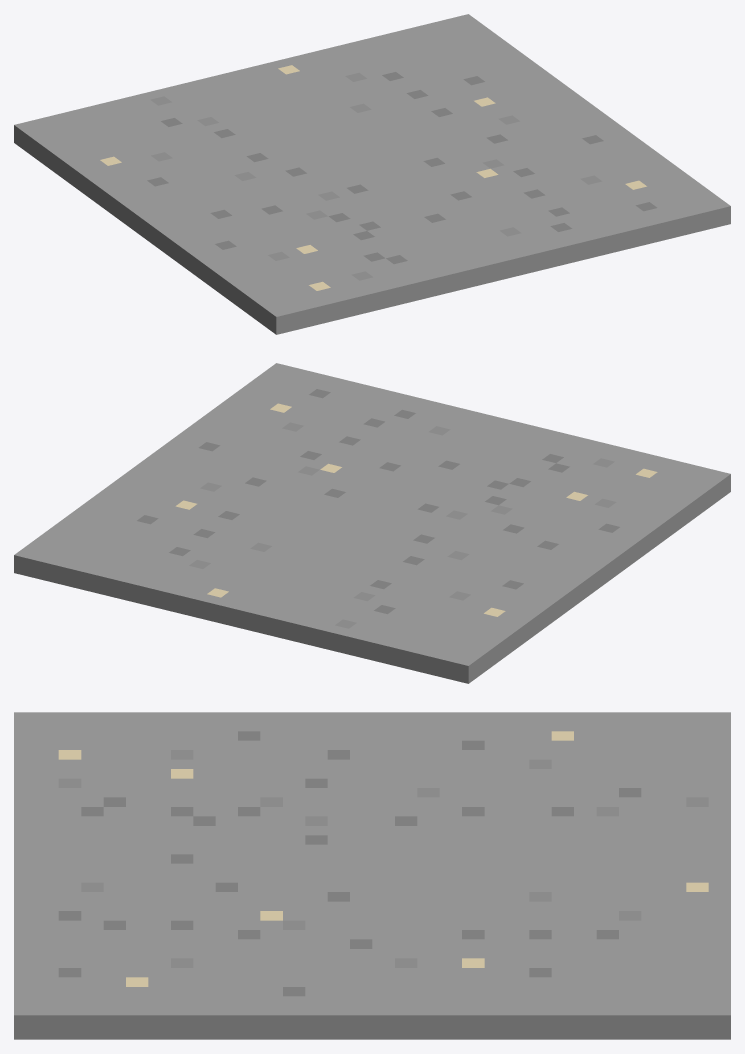
The model's file is Flr-MHE.fbx.
3 renders of one model, top to bottom at view 1: azimuth 30°, elevation 25°; view 2: azimuth 150°, elevation 25°; view 3: azimuth 270°, elevation 25°, orthographic. The views are drawn at different scales.
Parts seen in each view (by area): view 1: MHE_Lane; view 2: MHE_Lane; view 3: MHE_Lane.
Part boxes in pixels (x1,y1,x2,y2): MHE_Lane: (14, 14, 730, 334); MHE_Lane: (14, 363, 730, 683); MHE_Lane: (14, 712, 730, 1039).
Bounding box in the file's own units: 1.32 × 1.33 × 0.05.
